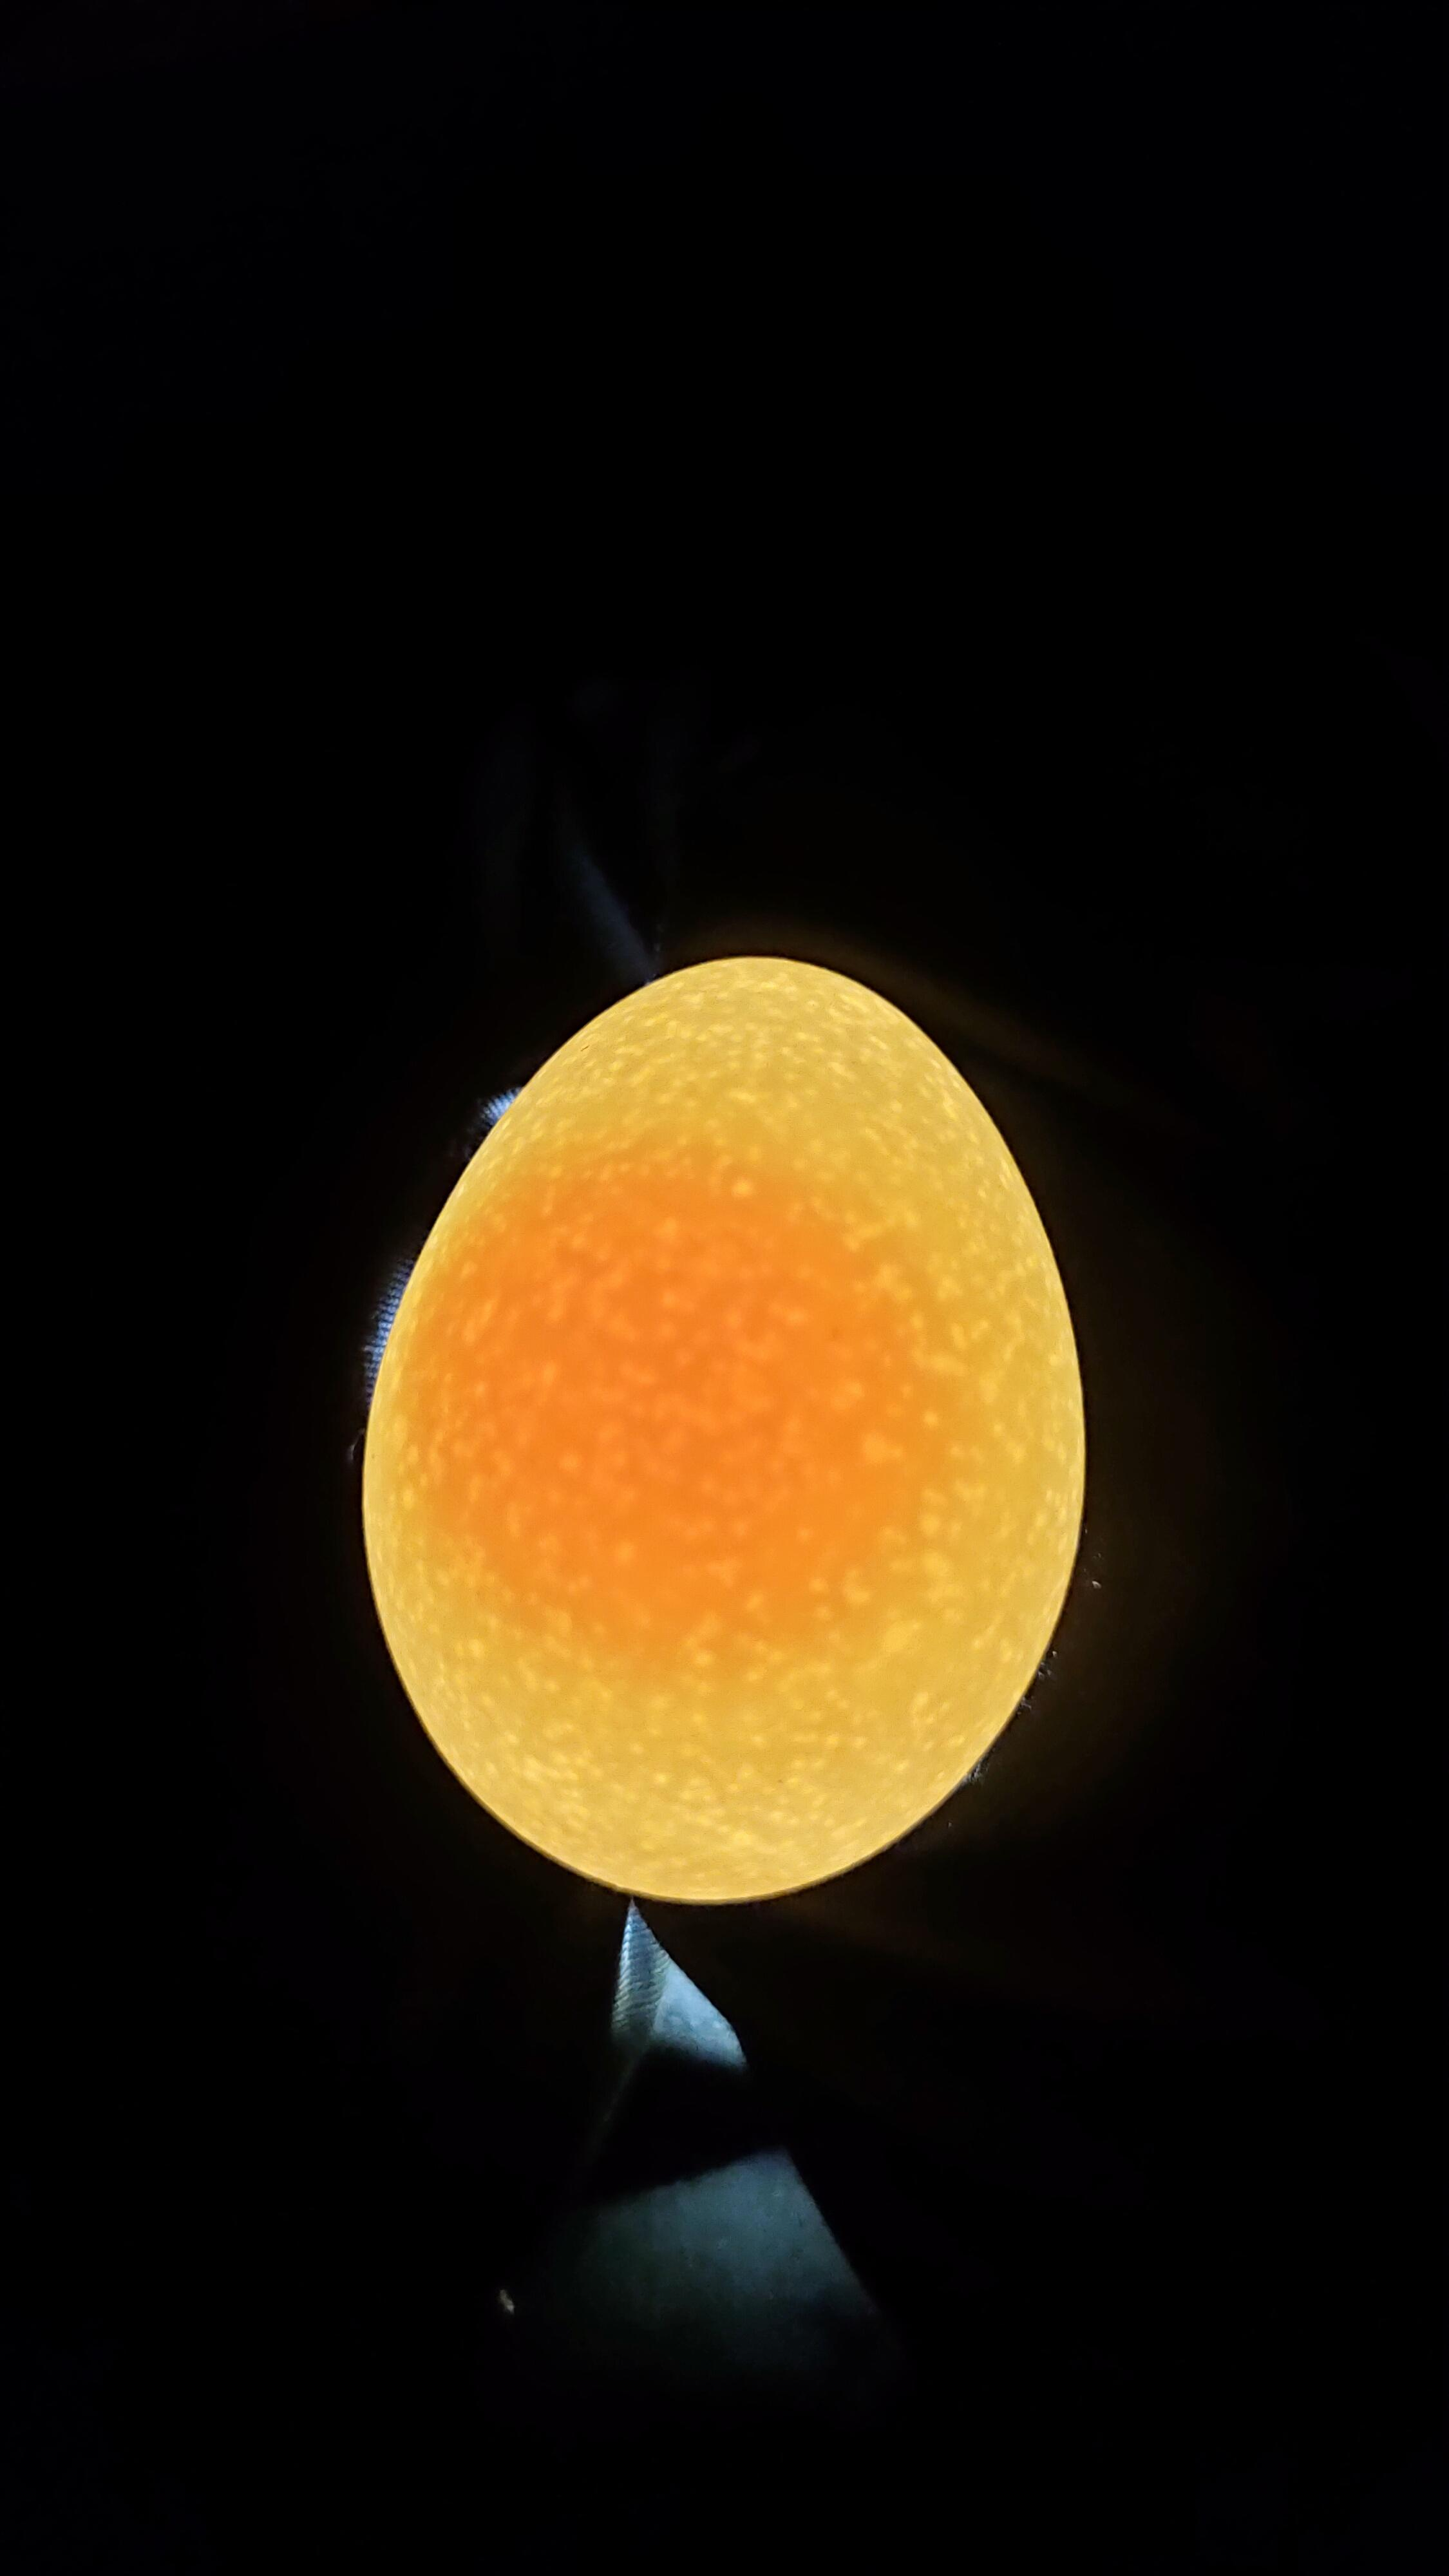A - Good: (334, 895, 1108, 1939)
